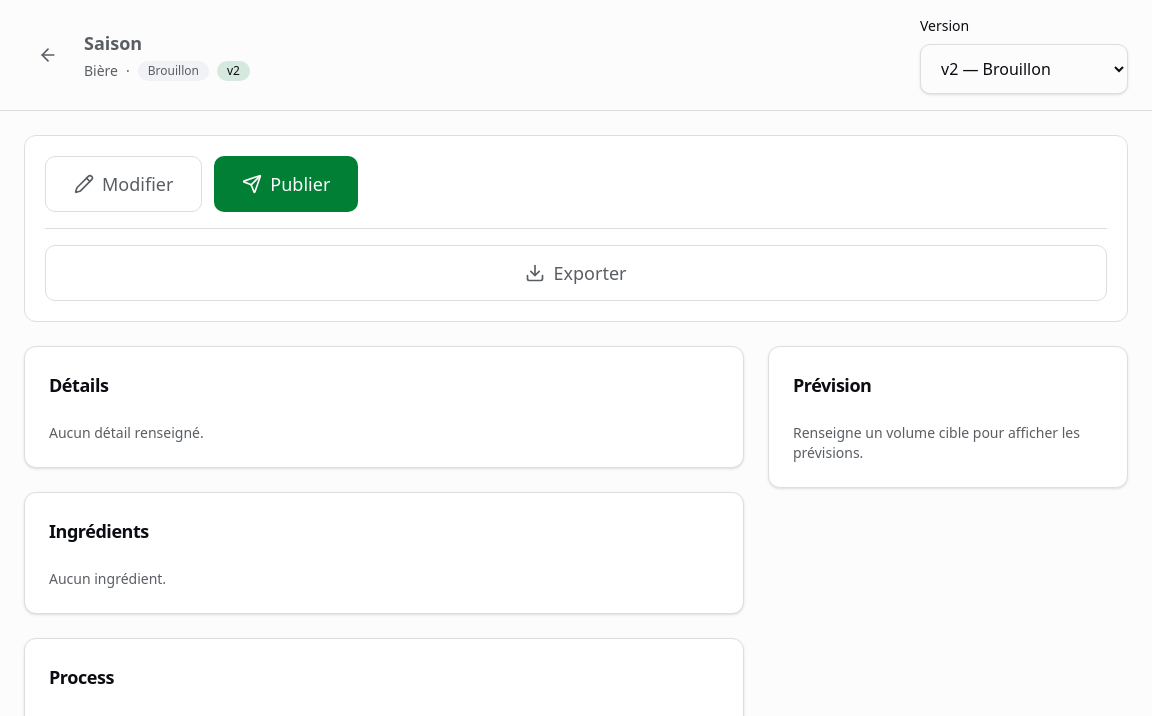
page détail — versions & lecture seule › navigue vers une autre version de la famille via le sélecteur
The width and height of the screenshot is (1152, 716).
Expected: the button "Publier" is shown, [214,156,358,212]
Select "v1 — Publiée" in the dropdown labelled "Version" at (1024, 69), box [920,44,1128,94]
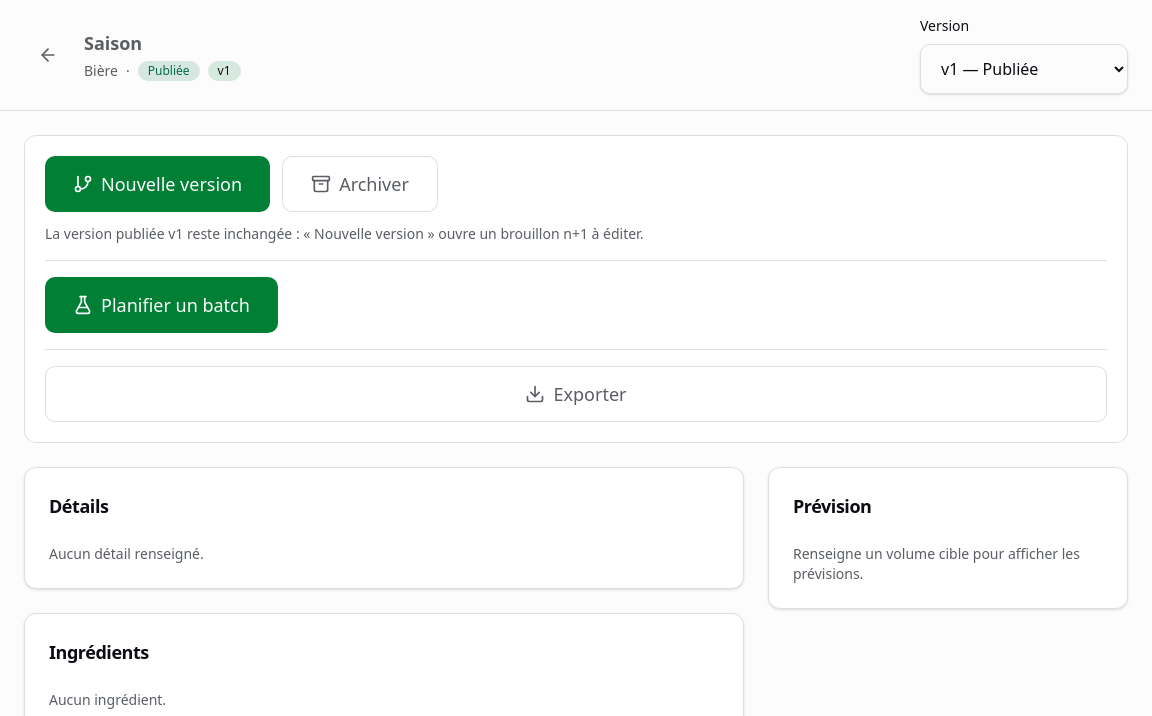
Expected: the button "Nouvelle version" is shown, [45,156,270,212]
Expected: the button "Publier" is gone
